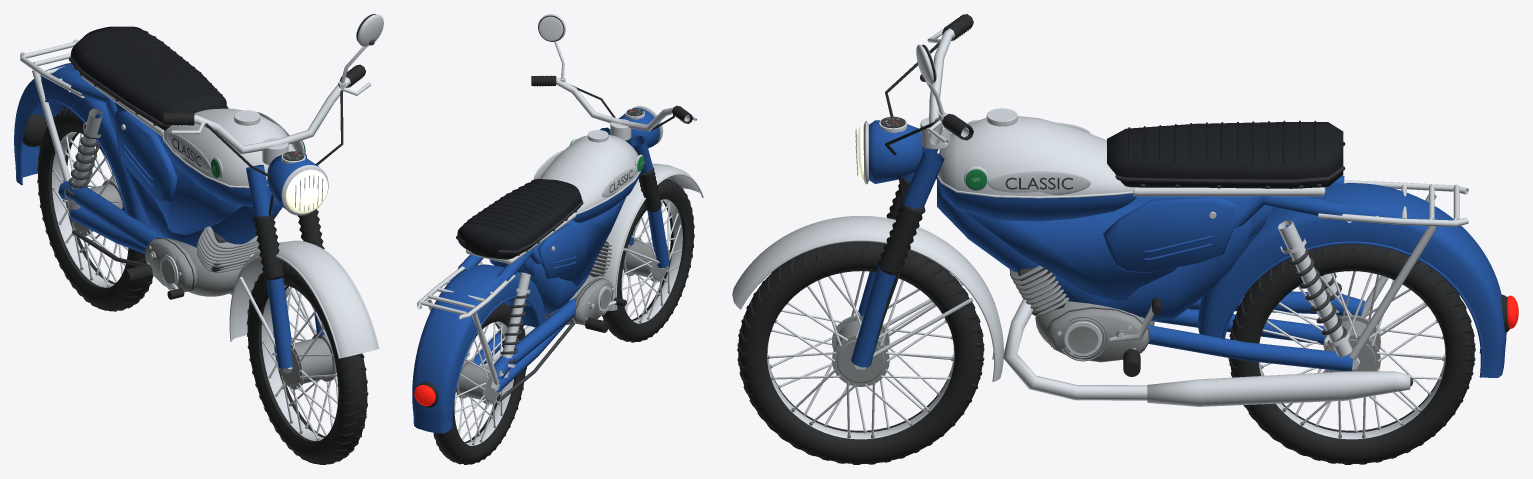
Rendered from puch_dakota.glb.
The picture shows the model from 3 angles, left to right: view 1: azimuth 30°, elevation 25°; view 2: azimuth 150°, elevation 25°; view 3: azimuth 270°, elevation 25°; orthographic projection. The views are drawn at different scales.
Visible parts, largest first — view 1: Dakota ultramarine enamel, Chrome plated steel, Performance tire Dakota front, Black vinyl seat, Performance tire Dakota rear, Cast engine aluminium, Road tyre charcoal, Chain and dark hardware, Headlamp ribbed glass, Saddle piping; view 2: Dakota ultramarine enamel, Chrome plated steel, Performance tire Dakota front, Performance tire Dakota rear, Black vinyl seat, Road tyre charcoal, Cast engine aluminium, Chain and dark hardware, Saddle piping, Tail lamp ruby Dakota; view 3: Dakota ultramarine enamel, Chrome plated steel, Performance tire Dakota front, Performance tire Dakota rear, Black vinyl seat, Cast engine aluminium, Road tyre charcoal, Chain and dark hardware, Saddle piping.
Boxes of the visible parts, x1=… form: Dakota ultramarine enamel: x1=14, y1=63, x2=328, y2=368; Chrome plated steel: x1=20, y1=14, x2=383, y2=358; Performance tire Dakota front: x1=246, y1=260, x2=368, y2=464; Black vinyl seat: x1=70, y1=26, x2=226, y2=130; Performance tire Dakota rear: x1=37, y1=108, x2=153, y2=311; Cast engine aluminium: x1=145, y1=226, x2=259, y2=296; Road tyre charcoal: x1=22, y1=14, x2=375, y2=299; Chain and dark hardware: x1=66, y1=39, x2=374, y2=292; Headlamp ribbed glass: x1=285, y1=169, x2=327, y2=213; Saddle piping: x1=68, y1=57, x2=228, y2=127; Dakota ultramarine enamel: x1=412, y1=108, x2=669, y2=433; Chrome plated steel: x1=417, y1=14, x2=703, y2=384; Performance tire Dakota front: x1=601, y1=179, x2=694, y2=342; Performance tire Dakota rear: x1=433, y1=302, x2=526, y2=464; Black vinyl seat: x1=457, y1=179, x2=581, y2=259; Road tyre charcoal: x1=418, y1=15, x2=692, y2=407; Cast engine aluminium: x1=545, y1=243, x2=613, y2=324; Chain and dark hardware: x1=498, y1=108, x2=643, y2=401; Saddle piping: x1=456, y1=199, x2=583, y2=253; Tail lamp ruby Dakota: x1=414, y1=385, x2=435, y2=406; Dakota ultramarine enamel: x1=851, y1=120, x2=1506, y2=377; Chrome plated steel: x1=732, y1=28, x2=1468, y2=406; Performance tire Dakota front: x1=737, y1=241, x2=984, y2=464; Performance tire Dakota rear: x1=1228, y1=244, x2=1475, y2=464; Black vinyl seat: x1=1107, y1=120, x2=1343, y2=188; Cast engine aluminium: x1=1009, y1=265, x2=1154, y2=362; Road tyre charcoal: x1=874, y1=14, x2=1509, y2=376; Chain and dark hardware: x1=880, y1=74, x2=1413, y2=386; Saddle piping: x1=1115, y1=142, x2=1345, y2=183.
Size of the model in its own units: 0.6502 by 1.2 by 1.83.
